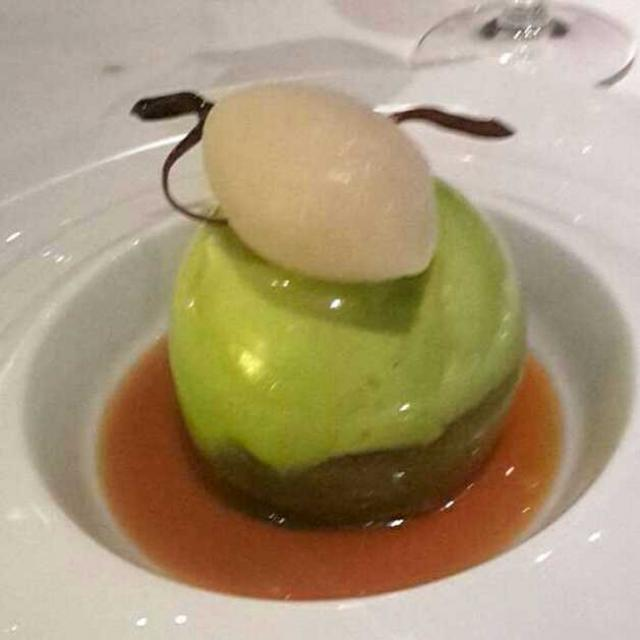apple-pie: (168, 174, 549, 515)
sorbet: (197, 82, 456, 301)
